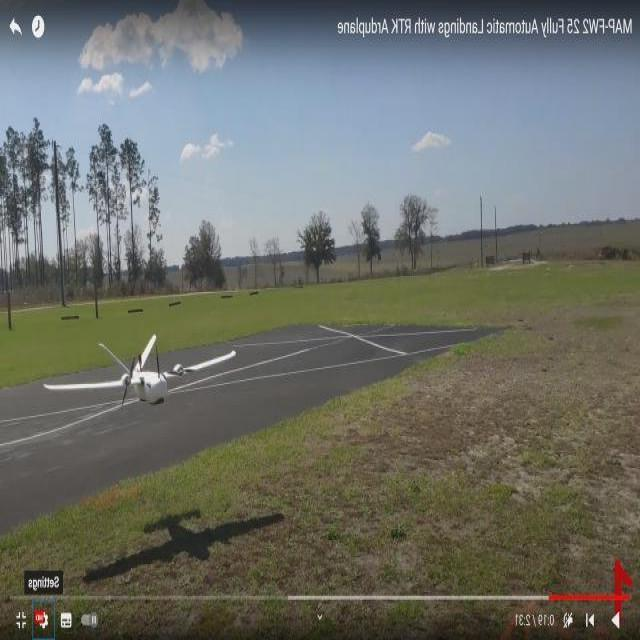iha: (46, 354, 241, 394), (26, 571, 64, 593)
